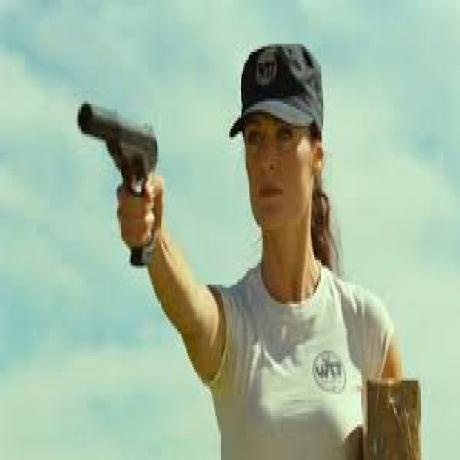Guns: (79, 91, 176, 265)
